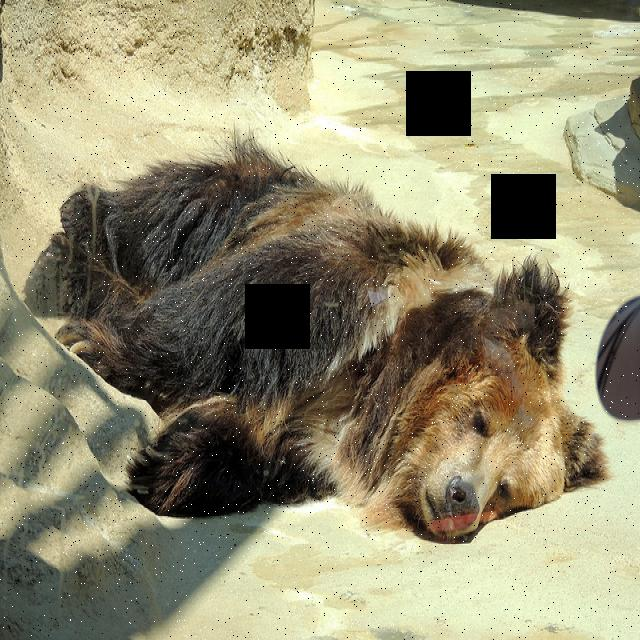Bear: (4, 121, 618, 558)
